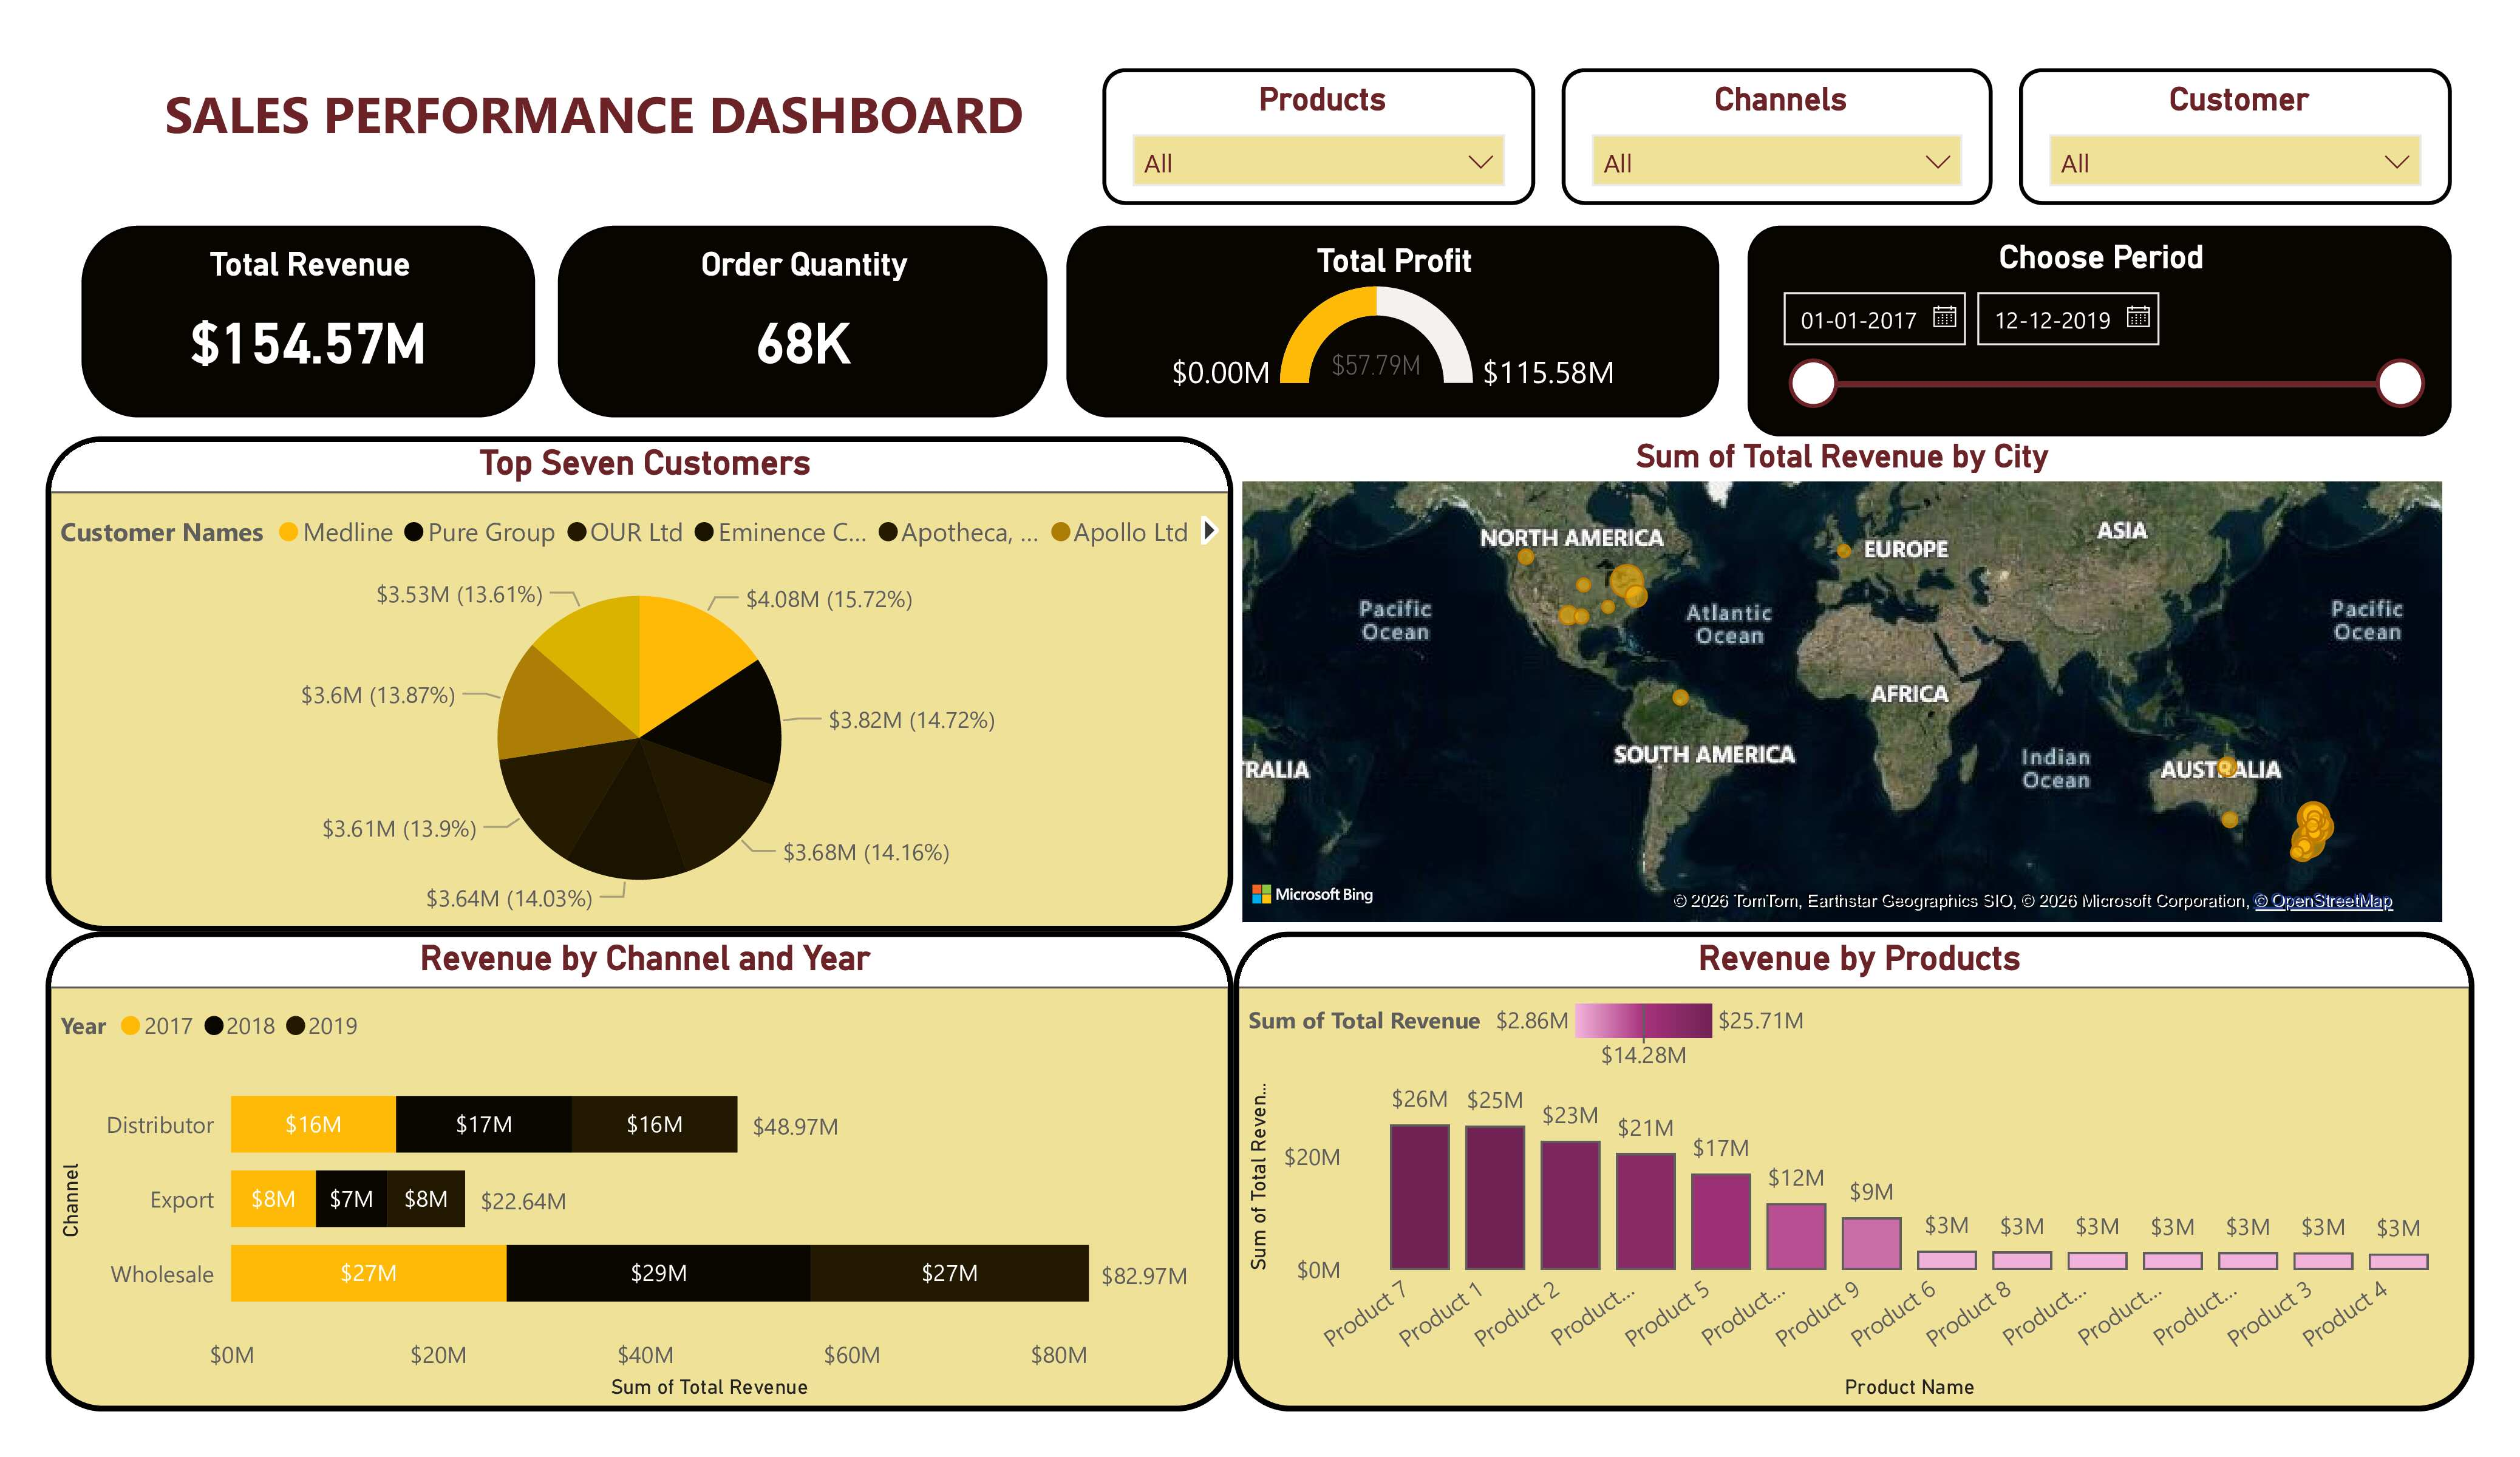

The page's visual inventory and layout, read from the dashboard file:
{"tool":"powerbi","page":{"name":"Page 1","canvas":[1280,720],"ordinal":0},"visuals":[{"type":"barChart","title":" Revenue by Channel and Year","fields":{"Category":["Sales_Data.Channel"],"Y":["Sum(Sales_Data.Total Revenue)"],"Series":["Sales_Data.Ship Date.Variation.Date Hierarchy.Year"]},"box":[0,466.6,625.7,253.9],"z":0},{"type":"columnChart","title":" Revenue by Products","fields":{"Category":["Products_Data.Product Name"],"Y":["Sum(Sales_Data.Total Revenue)"]},"box":[625.7,466.6,654.5,253.9],"z":1000},{"type":"pieChart","title":"Top Seven Customers","fields":{"Category":["Customer_Data.Customer Names"],"Y":["Sum(Sales_Data.Total Revenue)"]},"box":[0,205.8,625.7,260.7],"z":2000},{"type":"map","fields":{"Category":["Regions_Table.City"],"Size":["Sum(Sales_Data.Total Revenue)"]},"box":[625.7,205.8,642.2,260.7],"z":3000},{"type":"card","title":"Total Revenue","fields":{"Values":["Sum(Sales_Data.Total Revenue)"]},"box":[19.2,94.7,238.8,101.5],"z":4000},{"type":"card","title":"Order Quantity","fields":{"Values":["Sum(Sales_Data.Order Quantity)"]},"box":[270.3,94.7,258,101.5],"z":5000},{"type":"gauge","title":"Total Profit","fields":{"Y":["Sum(Sales_Data.Profit)"]},"box":[537.9,94.7,344.4,101.5],"z":6000},{"type":"slicer","title":"Choose Period","fields":{"Values":["Sales_Data.OrderDate"]},"box":[897.4,94.7,370.5,111.1],"z":7000},{"type":"slicer","title":"Customer","fields":{"Values":["Customer_Data.Customer Names"]},"box":[1040.1,12.3,227.8,71.4],"z":8000},{"type":"slicer","title":"Channels","fields":{"Values":["Sales_Data.Channel"]},"box":[798.6,12.3,227.8,71.4],"z":9000},{"type":"slicer","title":"Products","fields":{"Values":["Products_Data.Product Name"]},"box":[557.1,12.3,227.8,71.4],"z":10000},{"type":"textbox","box":[40.4,12.2,497.7,57.5],"z":11000}]}

Visuals, with their boxes in screenshot pixels (x1, y1, x2, y2):
" Revenue by Channel and Year" barChart: [left=46, top=931, right=1233, bottom=1411]
" Revenue by Products" columnChart: [left=1233, top=931, right=2474, bottom=1411]
"Top Seven Customers" pieChart: [left=46, top=436, right=1233, bottom=931]
map - Regions_Table.City x Sum(Sales_Data.Total Revenue): [left=1233, top=436, right=2451, bottom=931]
"Total Revenue" card: [left=82, top=225, right=535, bottom=418]
"Order Quantity" card: [left=559, top=225, right=1048, bottom=418]
"Total Profit" gauge: [left=1066, top=225, right=1720, bottom=418]
"Choose Period" slicer: [left=1748, top=225, right=2451, bottom=436]
"Customer" slicer: [left=2019, top=69, right=2451, bottom=205]
"Channels" slicer: [left=1561, top=69, right=1994, bottom=205]
"Products" slicer: [left=1103, top=69, right=1535, bottom=205]
textbox: [left=122, top=69, right=1067, bottom=178]
